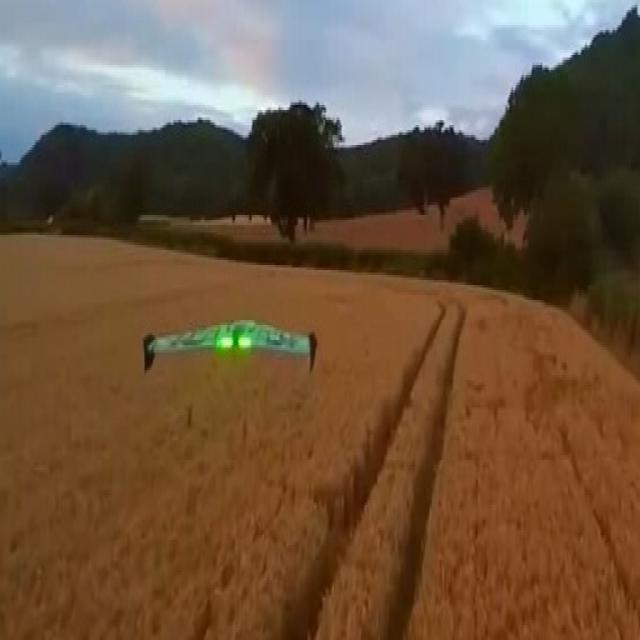iha: (121, 349, 354, 354)
